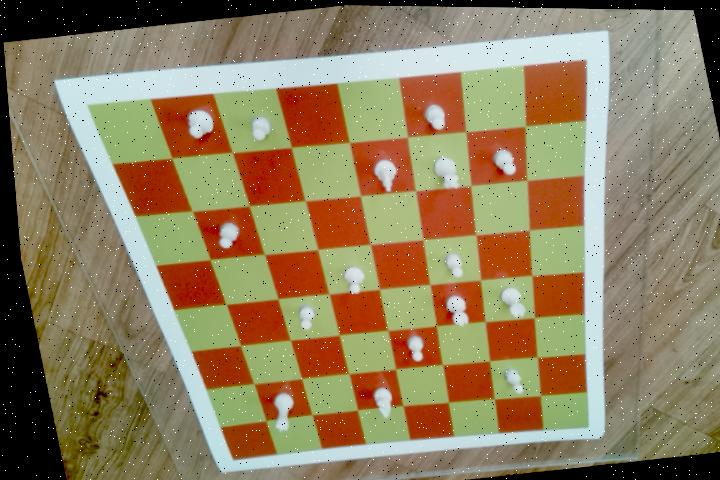chessboard-detect: (87, 51, 587, 455)
